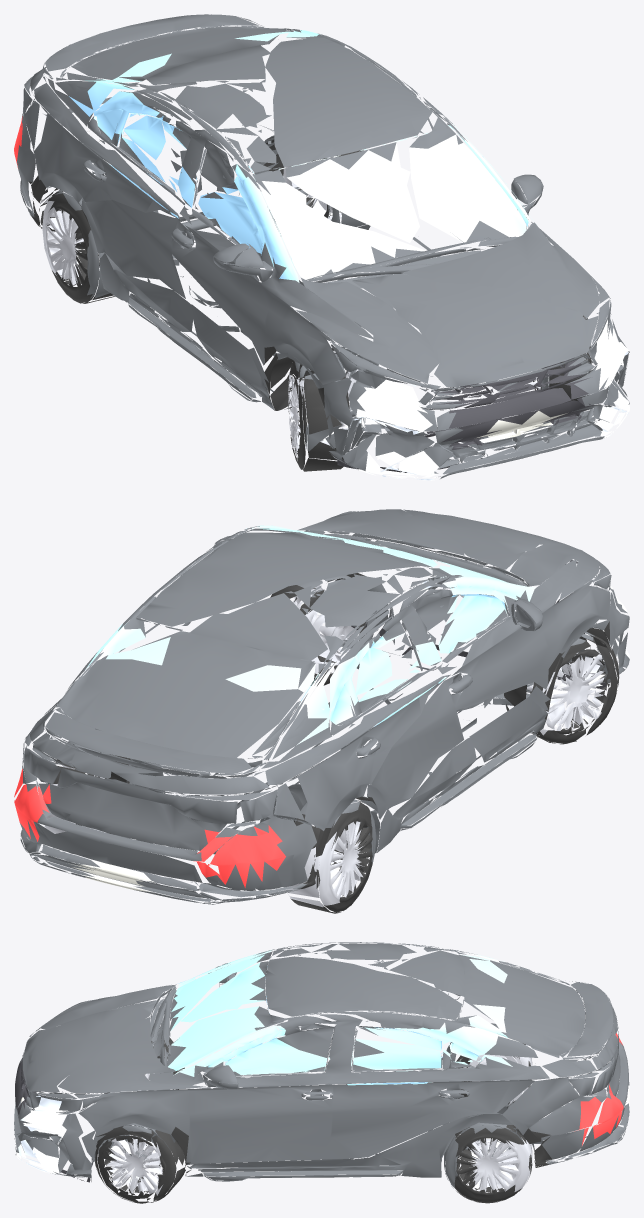
The model's file is forte-preview.glb.
3 renders of one model, top to bottom at view 1: azimuth 30°, elevation 25°; view 2: azimuth 150°, elevation 25°; view 3: azimuth 270°, elevation 25°, orthographic. The views are drawn at different scales.
Visible parts, largest first — view 1: paint, glass, rubber, trim, lamp, alloy, plate; view 2: paint, glass, alloy, rubber, tail, plate; view 3: paint, glass, rubber, alloy, lamp, tail, trim.
Boxes of the visible parts, x1,y1,x2,y2 form: paint: [17, 14, 629, 478]; glass: [69, 30, 533, 282]; rubber: [28, 136, 591, 471]; trim: [337, 357, 605, 472]; lamp: [353, 319, 629, 480]; alloy: [40, 157, 587, 457]; plate: [98, 121, 567, 442]; paint: [20, 509, 629, 904]; glass: [85, 525, 536, 745]; alloy: [44, 585, 605, 907]; rubber: [47, 573, 618, 913]; tail: [14, 769, 285, 887]; plate: [68, 860, 154, 892]; paint: [14, 942, 629, 1188]; glass: [168, 950, 518, 1085]; rubber: [95, 1037, 551, 1203]; alloy: [107, 1044, 532, 1195]; lamp: [16, 1095, 68, 1174]; tail: [574, 1033, 623, 1146]; trim: [15, 1055, 104, 1182].
Size of the model in its own units: 2.13 by 1.5 by 4.64.
